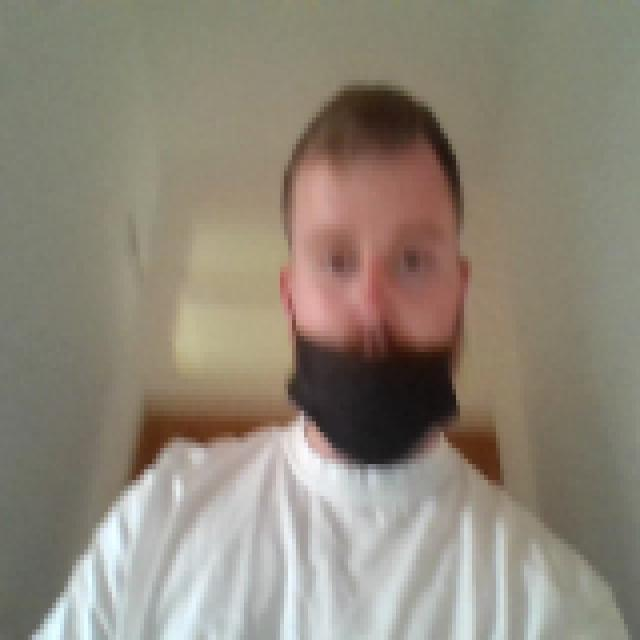hairnet: (260, 250, 484, 470)
